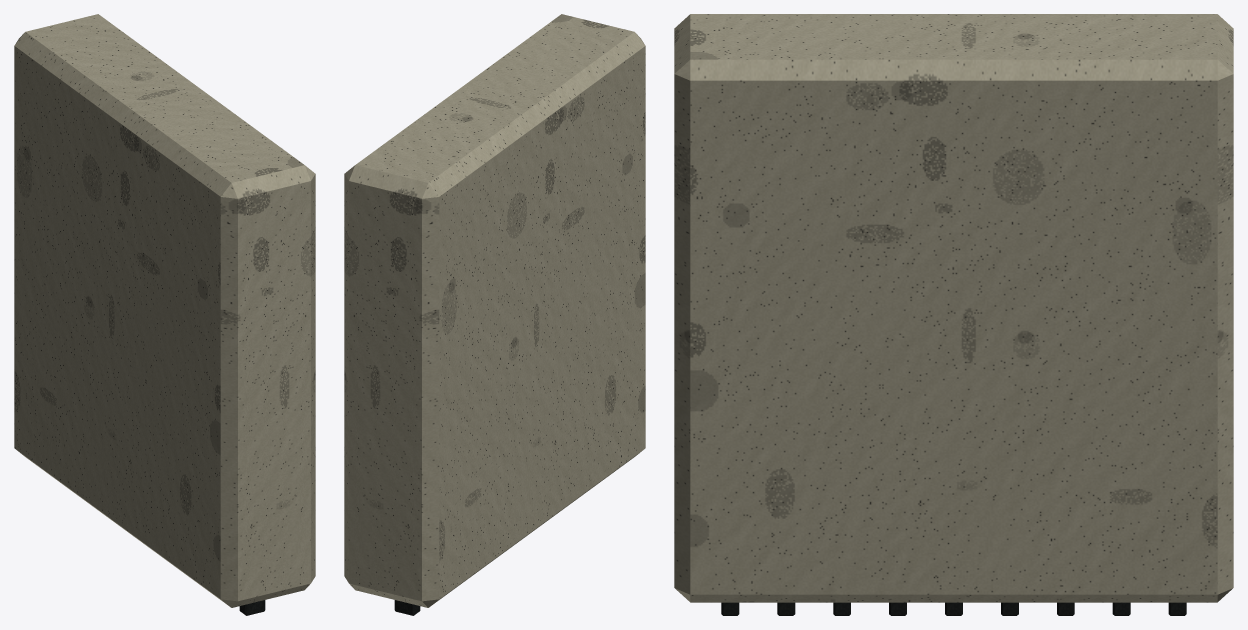
Rendered from kit-louver_vent.obj.
The picture shows the model from 3 angles, left to right: view 1: azimuth 30°, elevation 25°; view 2: azimuth 150°, elevation 25°; view 3: azimuth 270°, elevation 25°; orthographic projection. The views are drawn at different scales.
Parts seen in each view (by area): view 1: Reusable.louver_vent; view 2: Reusable.louver_vent; view 3: Reusable.louver_vent.
Boxes of the visible parts, <box> form: Reusable.louver_vent: <box>14,14,315,615</box>; Reusable.louver_vent: <box>344,14,645,615</box>; Reusable.louver_vent: <box>674,14,1233,615</box>.
Size of the model in its own units: 0.7 by 3.17 by 2.8.
Materials: 2 (2 with a texture image).
